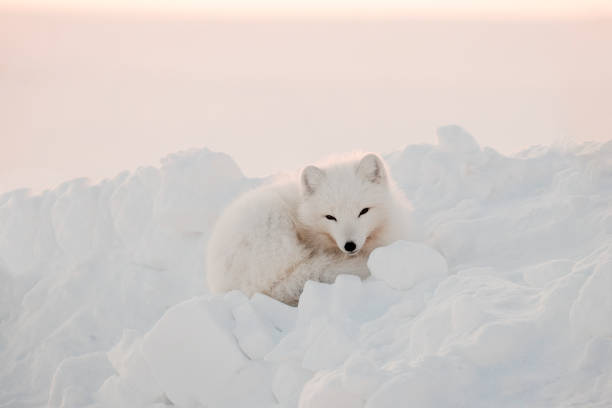arcticfox: (314, 189, 411, 288)
